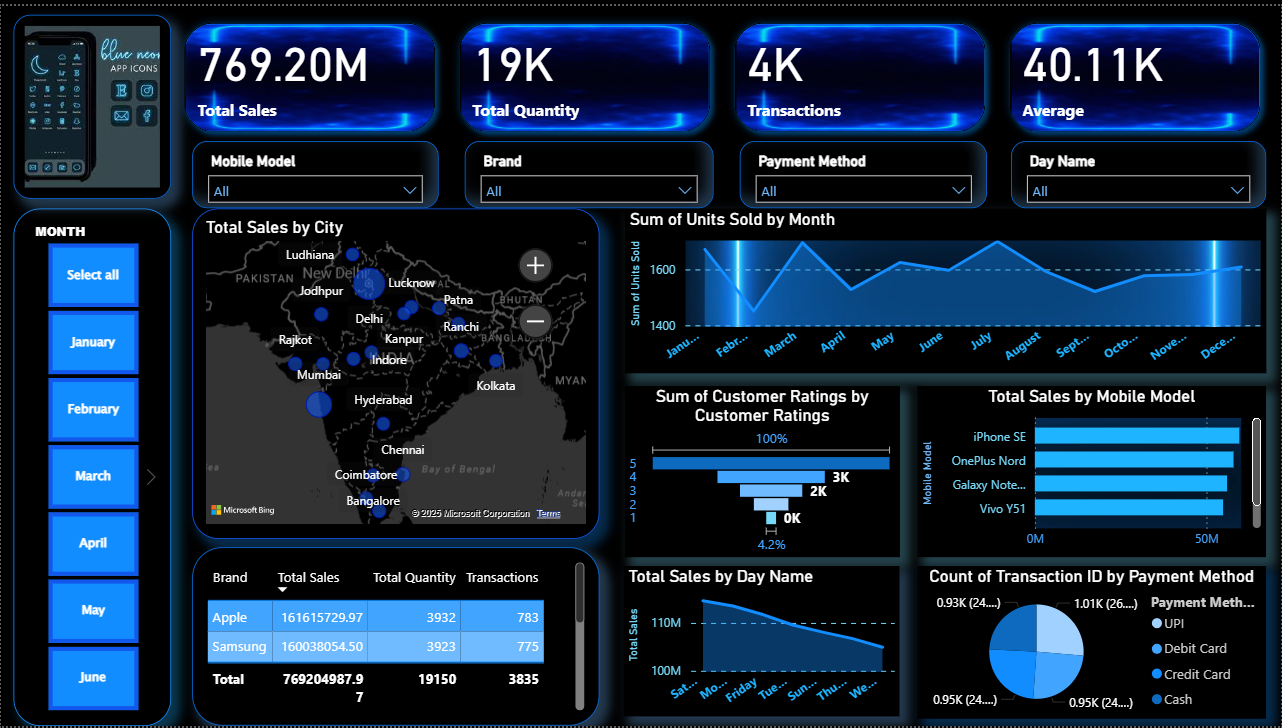

The page's visual inventory and layout, read from the dashboard file:
{"tool":"powerbi","page":{"name":"Page 1","canvas":[1280,720],"ordinal":0},"visuals":[{"type":"slicer","fields":{"Values":["Sheet1.date.Variation.Date Hierarchy.Month"]},"box":[12.5,202.5,157.5,517.5],"z":0},{"type":"cardVisual","fields":{"Data":["Sheet1.Total Sales","Sheet1.Total Quantity","Sheet1.Transactions","Sheet1.Average"]},"box":[166.2,0,1113.8,143.8],"z":1000},{"type":"map","fields":{"Category":["Sheet1.City"],"Size":["Sheet1.Total Sales"]},"box":[191.2,202.5,407.5,330],"z":2000},{"type":"lineChart","fields":{"Category":["Sheet1.date.Variation.Date Hierarchy.Month","Sheet1.date.Variation.Date Hierarchy.Day"],"Y":["Sum(Sheet1.Units Sold)"]},"box":[623.8,202.5,641.2,165],"z":3000},{"type":"clusteredBarChart","fields":{"Category":["Sheet1.Mobile Model"],"Y":["Sheet1.Total Sales"]},"box":[916.2,380,348.8,171.2],"z":4000},{"type":"pieChart","fields":{"Category":["Sheet1.Payment Method"],"Y":["CountNonNull(Sheet1.Transaction ID)"]},"box":[916.2,560,348.8,152.5],"z":5000},{"type":"funnel","fields":{"Category":["Sheet1.Customer Ratings"],"Y":["Sum(Sheet1.Customer Ratings)"]},"box":[623.8,380,275,171.2],"z":6000},{"type":"areaChart","fields":{"Category":["Sheet1.Day Name"],"Y":["Sheet1.Total Sales"]},"box":[622.5,560,276.2,150],"z":7000},{"type":"tableEx","fields":{"Values":["Sheet1.Brand","Sheet1.Total Sales","Sheet1.Total Quantity","Sheet1.Transactions"]},"box":[191.2,541.2,407.5,178.8],"z":8000},{"type":"slicer","fields":{"Values":["Sheet1.Mobile Model"]},"box":[191.2,135,246.2,67.5],"z":9001},{"type":"slicer","fields":{"Values":["Sheet1.Brand"]},"box":[463.8,135,248.8,67.5],"z":9002},{"type":"slicer","fields":{"Values":["Sheet1.Payment Method"]},"box":[738.8,135,247.5,67.5],"z":9003},{"type":"slicer","fields":{"Values":["Sheet1.Day Name"]},"box":[1010,135,255,67.5],"z":9004},{"type":"image","box":[12.5,8.8,157.5,183.8],"z":9005}]}

Visuals, with their boxes in screenshot pixels (x1, y1, x2, y2), scaled from the page's 1280x720 canvas onto the 1282x728 screenshot:
slicer - Sheet1.date.Variation.Date Hierarchy.Month: (13,205,170,727)
cardVisual - Sheet1.Total Sales x Sheet1.Total Quantity: (166,0,1281,145)
map - Sheet1.City x Sheet1.Total Sales: (191,205,600,538)
lineChart - Sheet1.date.Variation.Date Hierarchy.Month x Sheet1.date.Variation.Date Hierarchy.Day: (625,205,1267,372)
clusteredBarChart - Sheet1.Mobile Model x Sheet1.Total Sales: (918,384,1267,557)
pieChart - Sheet1.Payment Method x CountNonNull(Sheet1.Transaction ID): (918,566,1267,720)
funnel - Sheet1.Customer Ratings x Sum(Sheet1.Customer Ratings): (625,384,900,557)
areaChart - Sheet1.Day Name x Sheet1.Total Sales: (623,566,900,718)
tableEx - Sheet1.Brand x Sheet1.Total Sales: (191,547,600,727)
slicer - Sheet1.Mobile Model: (191,136,438,205)
slicer - Sheet1.Brand: (465,136,714,205)
slicer - Sheet1.Payment Method: (740,136,988,205)
slicer - Sheet1.Day Name: (1012,136,1267,205)
image: (13,9,170,195)
